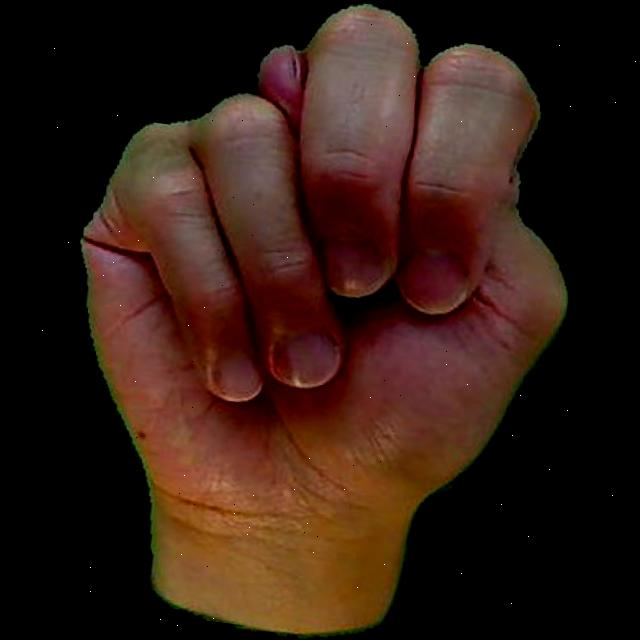n: (11, 0, 622, 640)
